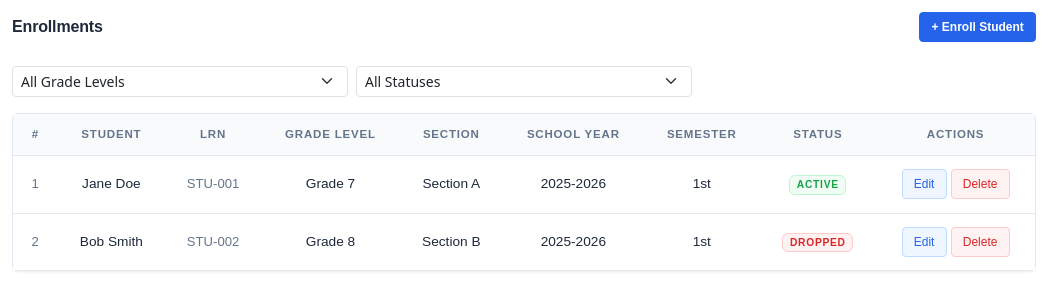
Scenario: EnrollmentsPage › filteredEnrollments computed › filters by status
# filterStatus is the second select
Select "Active" in the 2nd dropdown at (524, 81), box top-left (356, 66), bottom-right (692, 97)
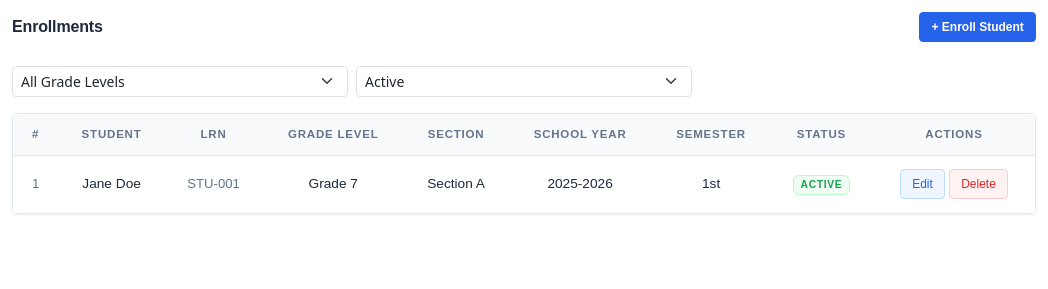
expect the text "Jane Doe" is shown: met, box top-left (58, 155), bottom-right (165, 213)
expect the text "Bob Smith" is gone: met
